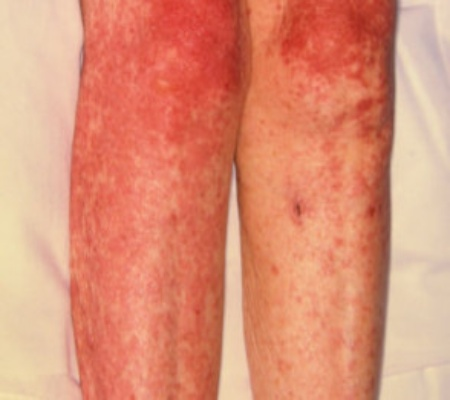SJS-TEN: (60, 0, 254, 400), (239, 0, 397, 399)
